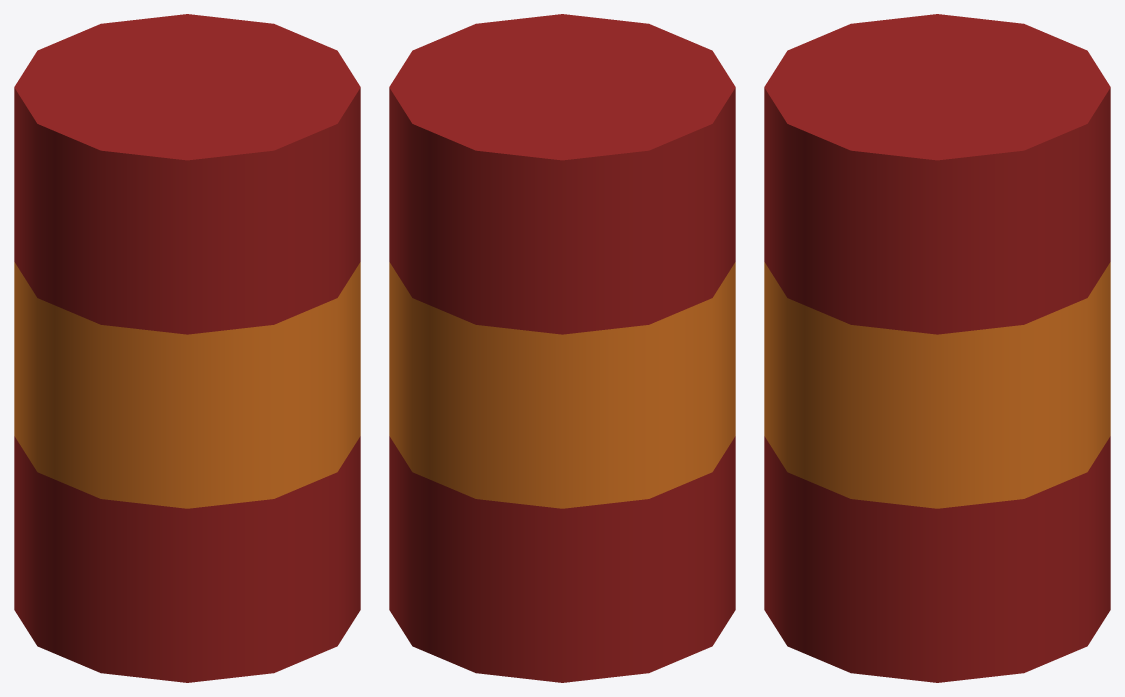
Rendered from Barrel4_1.fbx.
3 renders of one model, left to right at view 1: azimuth 30°, elevation 25°; view 2: azimuth 150°, elevation 25°; view 3: azimuth 270°, elevation 25°, orthographic.
Parts seen in each view (by area): view 1: Circle.005; view 2: Circle.005; view 3: Circle.005.
Boxes of the visible parts, x1,y1,x2,y2 form: Circle.005: (14, 14, 360, 682); Circle.005: (389, 14, 735, 682); Circle.005: (764, 14, 1110, 682).
Bounding box in the file's own units: 45.27 × 75.31 × 45.27.
